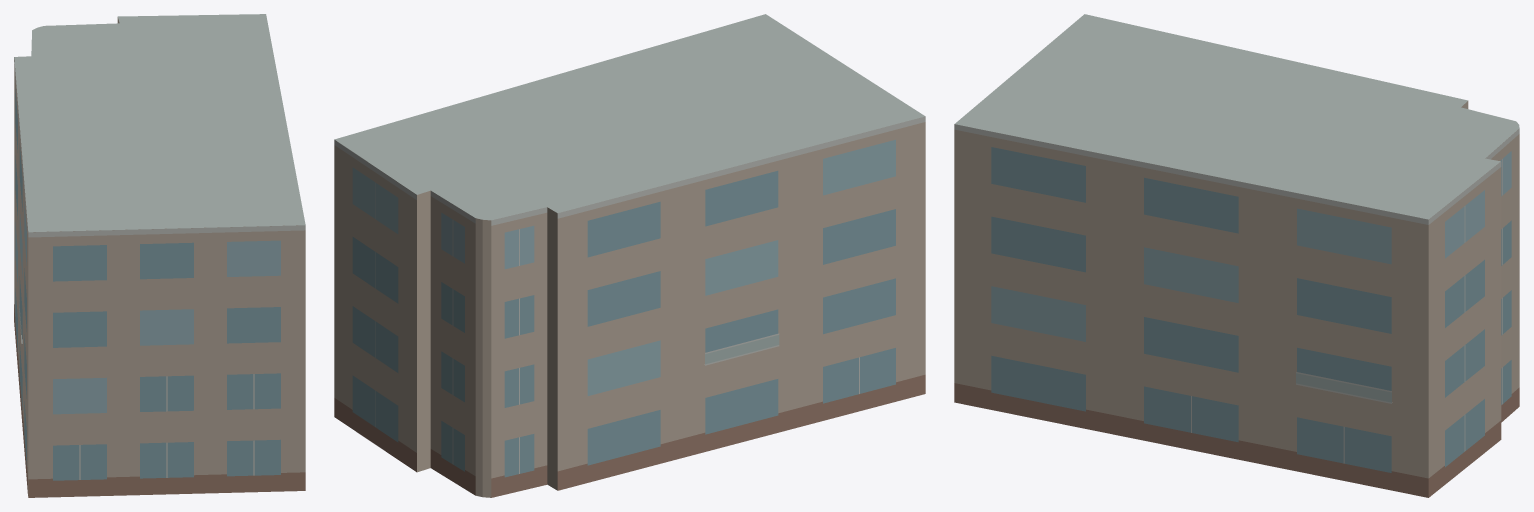
The model's file is survey-upis-32992782.glb.
3 renders of one model, left to right at view 1: azimuth 30°, elevation 25°; view 2: azimuth 150°, elevation 25°; view 3: azimuth 270°, elevation 25°, orthographic. The views are drawn at different scales.
Visible parts, largest first — view 1: survey-upis-32992782.tmp; view 2: survey-upis-32992782.tmp; view 3: survey-upis-32992782.tmp.
Boxes of the visible parts, x1,y1,x2,y2 form: survey-upis-32992782.tmp: (14, 14, 305, 497); survey-upis-32992782.tmp: (334, 14, 925, 497); survey-upis-32992782.tmp: (954, 14, 1519, 497).
Size of the model in its own units: 19.65 by 12.4 by 22.83.
